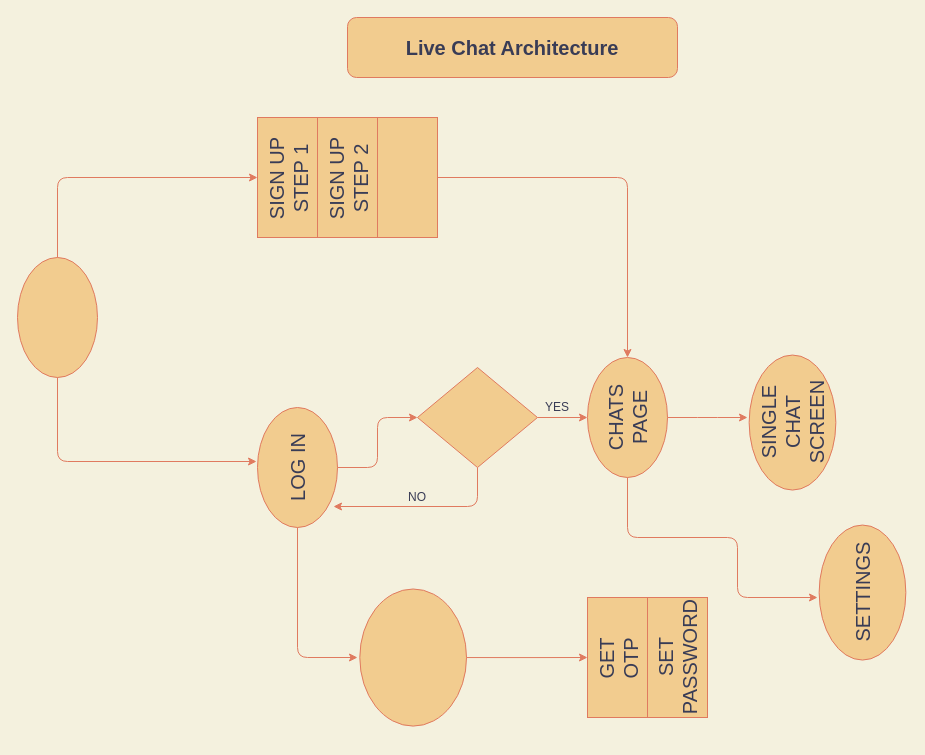
This 925x755 diagram has some shape labels left out. The centre of each missing label's shape, as x and y in pixels:
"FORGOT PASSWORD" goes at point 412,657.
"IF AUTHORIZED" goes at point 477,417.
"LIVE-CHAT" goes at point 57,317.
"SIGN UP STEP 3" goes at point 407,177.
